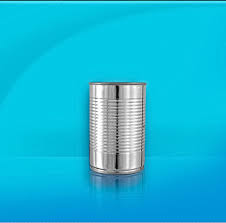can: (87, 78, 147, 175)
